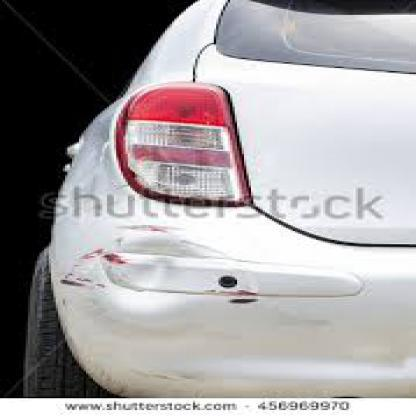dent: (104, 255, 196, 312)
